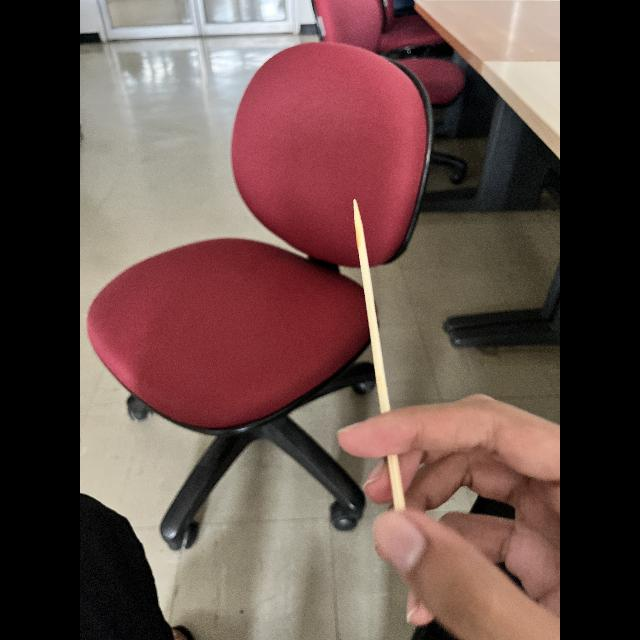stick: (342, 190, 396, 410)
